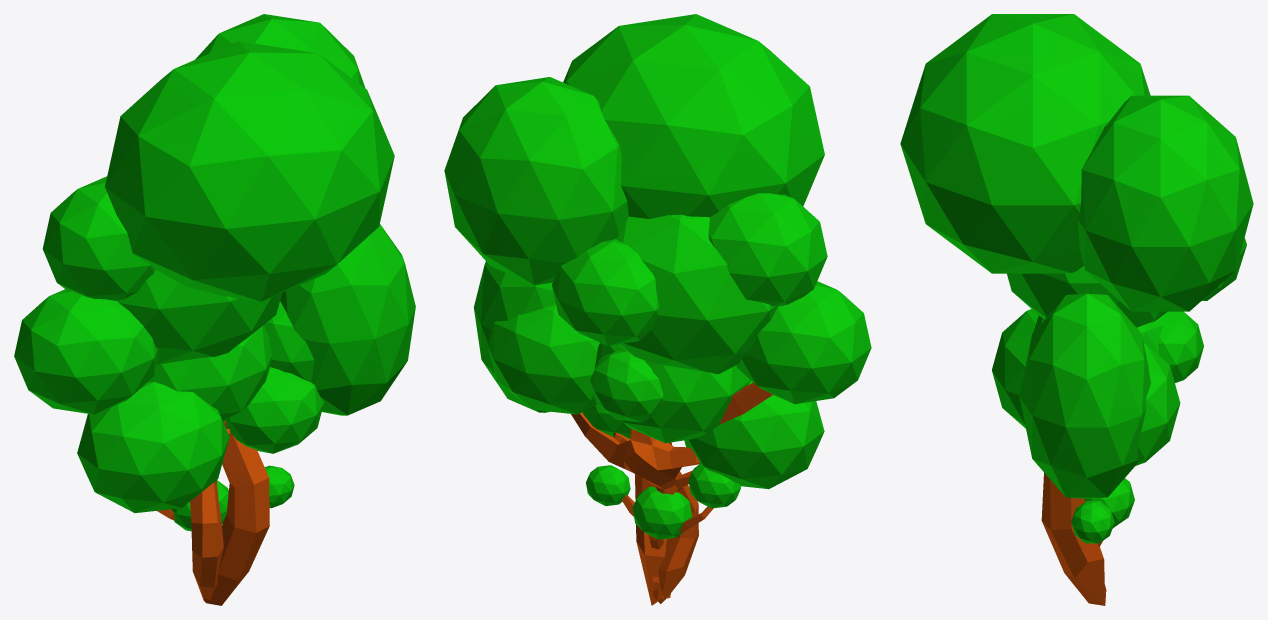
The model's file is 3_FARKLI_AGAC.fbx.
3 views of the same model, side by side, from view 1: azimuth 30°, elevation 25°; view 2: azimuth 150°, elevation 25°; view 3: azimuth 270°, elevation 25° (orthographic). The views are drawn at different scales.
Visible parts, largest first — view 1: AGAC_BUYUK, AGAC_ORTA, AGAC_KUCUK; view 2: AGAC_BUYUK, AGAC_ORTA, AGAC_KUCUK; view 3: AGAC_BUYUK, AGAC_ORTA, AGAC_KUCUK.
Part boxes in pixels (x1,y1,x2,y2): AGAC_BUYUK: (14, 14, 415, 605); AGAC_ORTA: (77, 270, 314, 601); AGAC_KUCUK: (157, 367, 324, 531); AGAC_BUYUK: (444, 14, 871, 605); AGAC_ORTA: (488, 214, 824, 603); AGAC_KUCUK: (582, 404, 740, 600); AGAC_BUYUK: (900, 14, 1253, 605); AGAC_ORTA: (992, 266, 1203, 595); AGAC_KUCUK: (1071, 478, 1134, 547).
Bounding box in the file's own units: 489 × 696 × 382.
